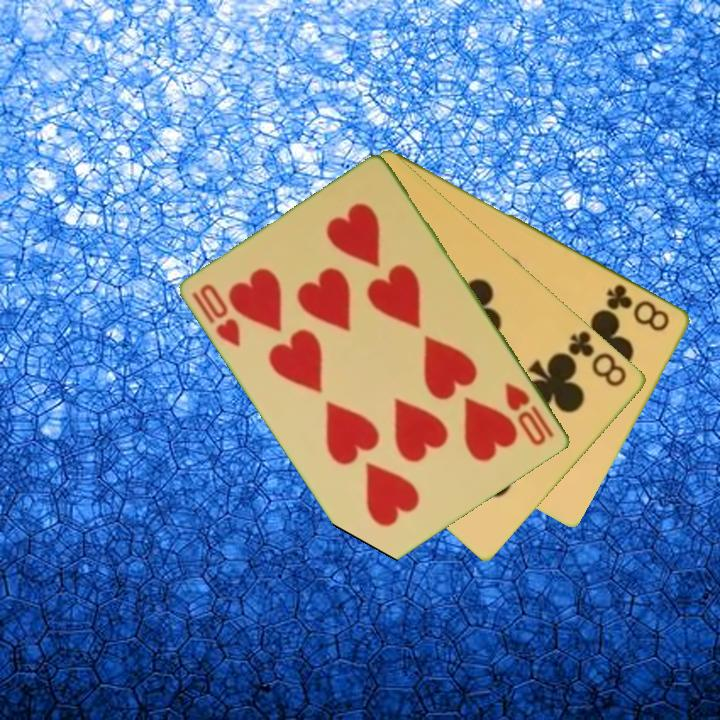10h: (501, 378, 558, 449), (188, 280, 244, 351)
8c: (565, 327, 630, 390), (603, 280, 674, 335)
